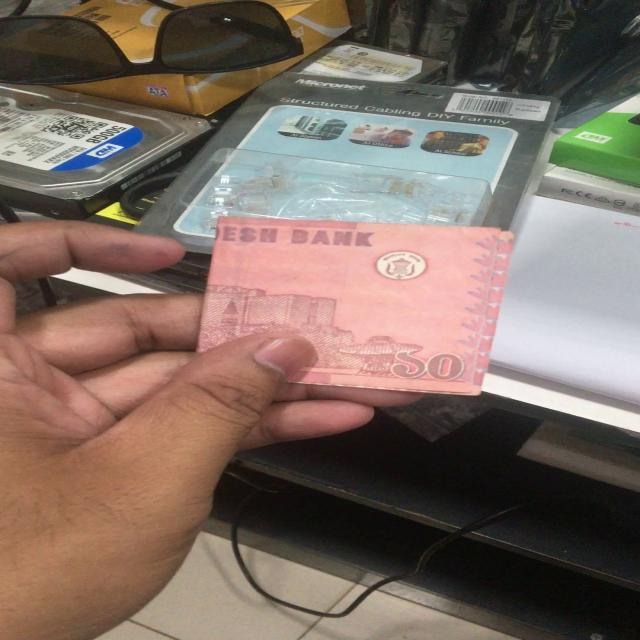Taka: (207, 218, 489, 394)
